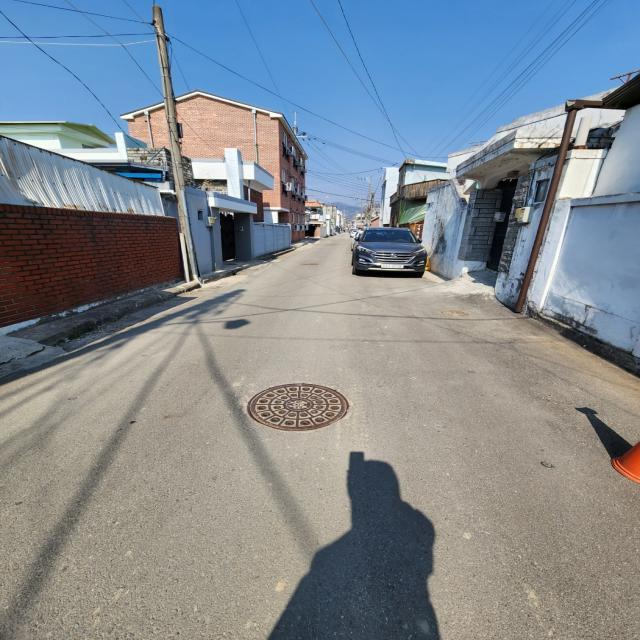manhole: (249, 384, 349, 430)
